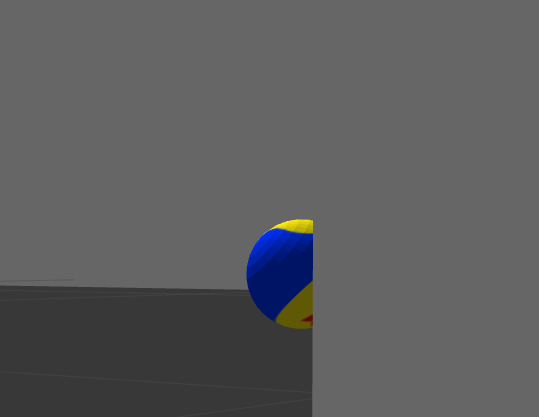toy story ball: (247, 218, 314, 330)
